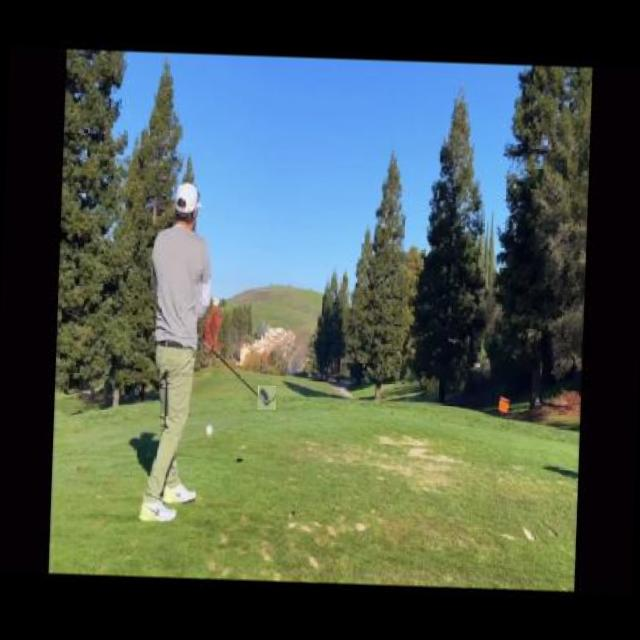club head: (257, 384, 276, 410)
